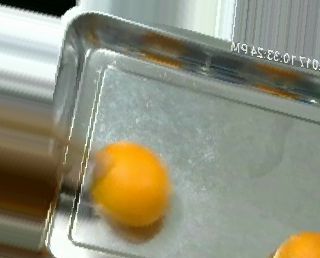Orange: (90, 140, 172, 226)
